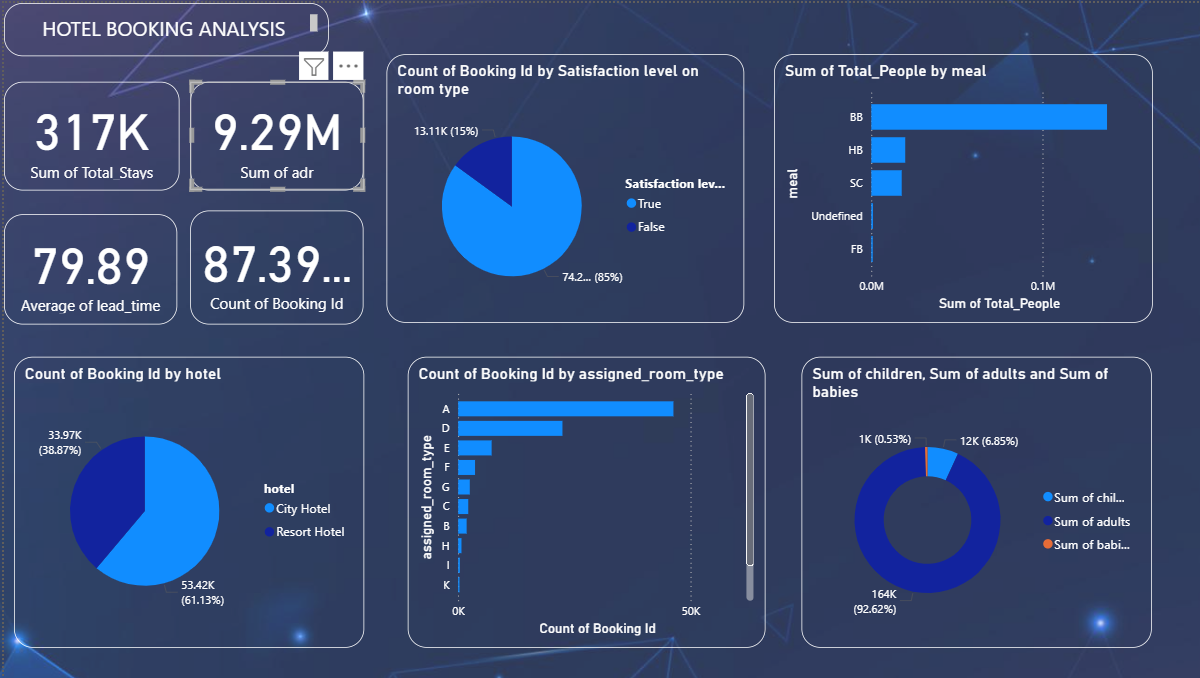

The page's visual inventory and layout, read from the dashboard file:
{"tool":"powerbi","page":{"name":"Page 1","canvas":[1280,720],"ordinal":0},"visuals":[{"type":"pieChart","fields":{"Category":["Hotel Bookings.Satisfaction level on room type"],"Y":["CountNonNull(Hotel Bookings.Booking Id)"]},"box":[407.5,55,381.2,286.2],"z":0},{"type":"pieChart","fields":{"Category":["Hotel Bookings.hotel"],"Y":["CountNonNull(Hotel Bookings.Booking Id)"]},"box":[11.2,377.5,373.8,310],"z":1000},{"type":"barChart","fields":{"Category":["Hotel Bookings.meal"],"Y":["Sum(Hotel Bookings.Total_People)"]},"box":[821.2,55,403.8,286.2],"z":2000},{"type":"card","fields":{"Values":["Sum(Hotel Bookings.Total_Stays)"]},"box":[0,83.8,187.5,116.2],"z":3000},{"type":"card","fields":{"Values":["Avg(Hotel Bookings.lead_time)"]},"box":[0,225,185,117.5],"z":4000},{"type":"card","fields":{"Values":["Sum(Hotel Bookings.adr)"]},"box":[198.8,83.8,185,116.2],"z":5000},{"type":"textbox","box":[0,0,346.7,56.7],"z":6000},{"type":"card","fields":{"Values":["CountNonNull(Hotel Bookings.Booking Id)"]},"box":[198.8,221.2,185,121.2],"z":7000},{"type":"barChart","fields":{"Category":["Hotel Bookings.assigned_room_type"],"Y":["CountNonNull(Hotel Bookings.Booking Id)"]},"box":[430,377.5,381.2,310],"z":8000},{"type":"donutChart","fields":{"Y":["Sum(Hotel Bookings.children)","Sum(Hotel Bookings.adults)","Sum(Hotel Bookings.babies)"]},"box":[851.2,377.5,373.8,310],"z":9000}]}

Visuals, with their boxes in screenshot pixels (x1, y1, x2, y2), scaled from the page's 1280x720 canvas onto the 1200x678 screenshot:
pieChart - Hotel Bookings.Satisfaction level on room type x CountNonNull(Hotel Bookings.Booking Id): BBox(382, 52, 739, 321)
pieChart - Hotel Bookings.hotel x CountNonNull(Hotel Bookings.Booking Id): BBox(10, 355, 361, 647)
barChart - Hotel Bookings.meal x Sum(Hotel Bookings.Total_People): BBox(770, 52, 1148, 321)
card - Sum(Hotel Bookings.Total_Stays): BBox(0, 79, 176, 188)
card - Avg(Hotel Bookings.lead_time): BBox(0, 212, 173, 323)
card - Sum(Hotel Bookings.adr): BBox(186, 79, 360, 188)
textbox: BBox(0, 0, 325, 53)
card - CountNonNull(Hotel Bookings.Booking Id): BBox(186, 208, 360, 322)
barChart - Hotel Bookings.assigned_room_type x CountNonNull(Hotel Bookings.Booking Id): BBox(403, 355, 760, 647)
donutChart - Sum(Hotel Bookings.children) x Sum(Hotel Bookings.adults): BBox(798, 355, 1148, 647)
